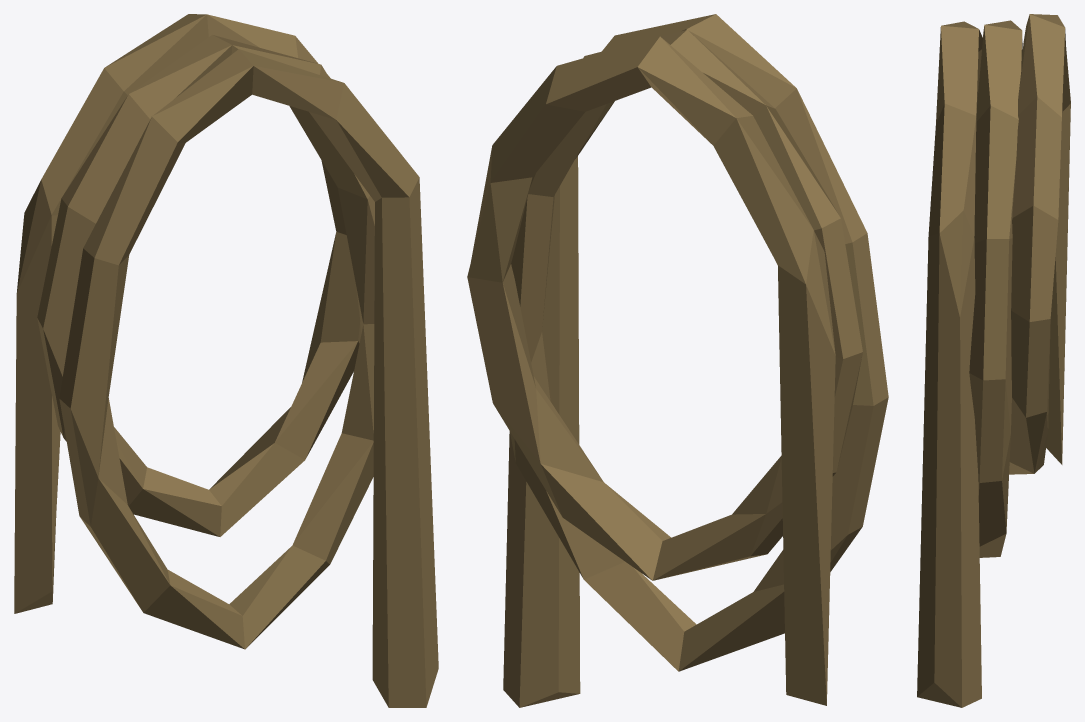
File: LP_PostApoc_RopeA.fbx
3 renders of one model, left to right at view 1: azimuth 30°, elevation 25°; view 2: azimuth 150°, elevation 25°; view 3: azimuth 270°, elevation 25°, orthographic. The views are drawn at different scales.
Visible parts, largest first — view 1: RopeA; view 2: RopeA; view 3: RopeA.
Part boxes in pixels (x1=…): RopeA: x1=14, y1=14, x2=438, y2=707; RopeA: x1=467, y1=14, x2=888, y2=707; RopeA: x1=917, y1=14, x2=1070, y2=707.
Bounding box in the file's own units: 44.95 × 81.49 × 18.48.
